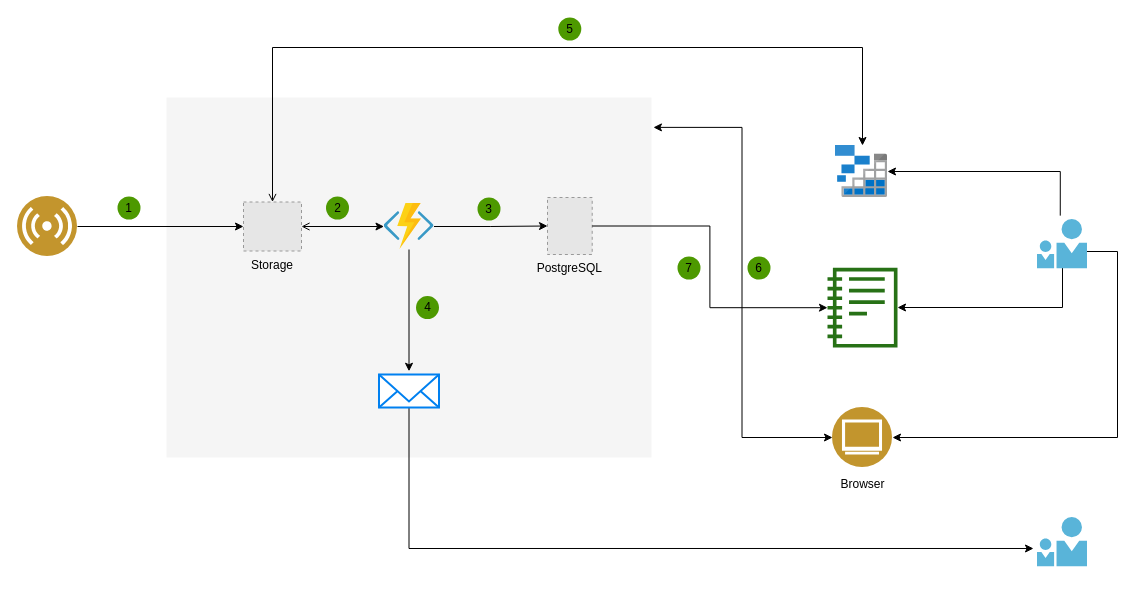
The diagram is 1143 pixels wide and 605 high, and some of its shapes have lost their labels. Grey dashed boxes stand in for pictures. The centre of each missing label's shape, as x and y in pixels:
"Admins" goes at (x=1062, y=541).
"Function App" goes at (x=409, y=226).
"Jupyter notebook" goes at (x=862, y=307).
"Storage explorer" goes at (x=861, y=171).
"Users" goes at (x=1062, y=243).
